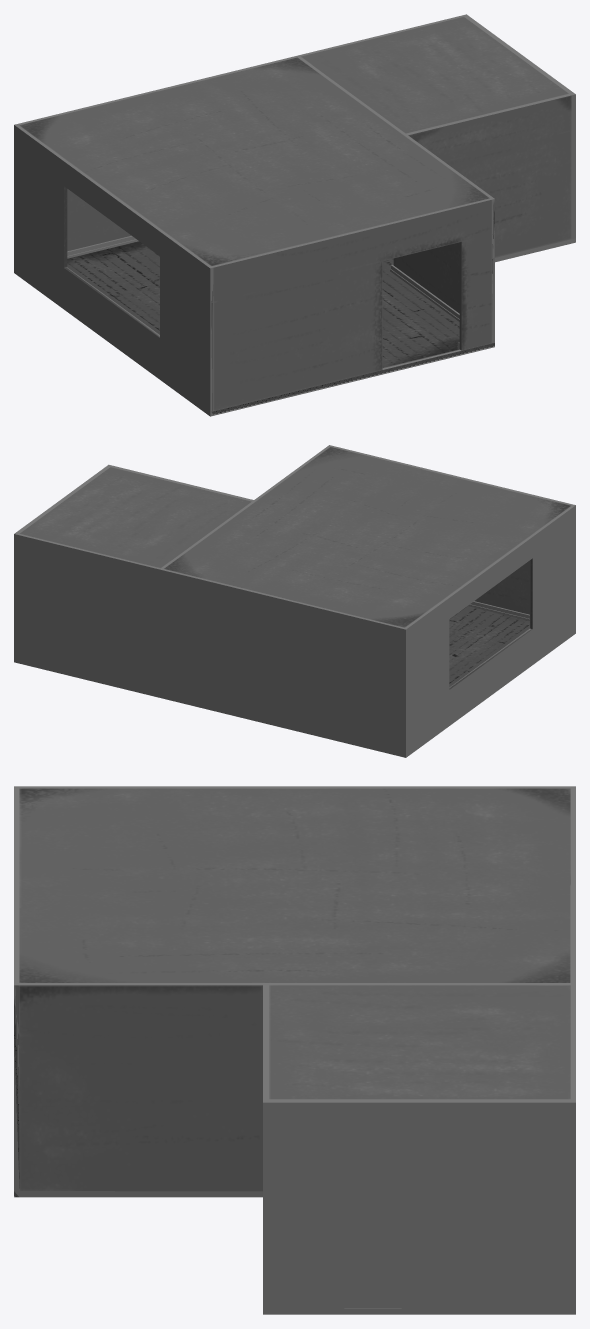
File: BedroomIsolated.fbx
3 renders of one model, top to bottom at view 1: azimuth 30°, elevation 25°; view 2: azimuth 150°, elevation 25°; view 3: azimuth 270°, elevation 25°, orthographic. The views are drawn at different scales.
Parts seen in each view (by area): view 1: UpStairs.001; view 2: UpStairs.001; view 3: UpStairs.001.
Part boxes in pixels (bbox=[...]): UpStairs.001: bbox=[14, 14, 575, 416]; UpStairs.001: bbox=[14, 445, 575, 757]; UpStairs.001: bbox=[14, 786, 575, 1314].
Bounding box in the file's own units: 1626 × 509 × 1221.
